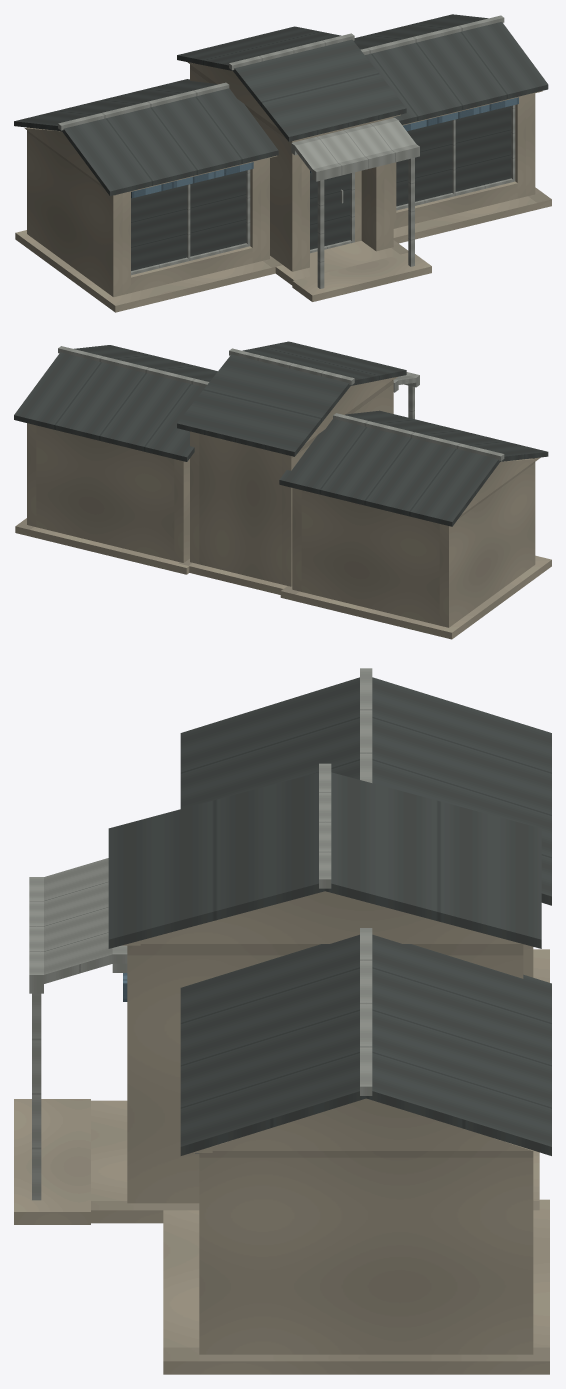
The picture shows the model from 3 angles, top to bottom: view 1: azimuth 30°, elevation 25°; view 2: azimuth 150°, elevation 25°; view 3: azimuth 270°, elevation 25°; orthographic projection. The views are drawn at different scales.
Parts seen in each view (by area): view 1: tirana; view 2: tirana; view 3: tirana.
Part boxes in pixels (x1,y1,x2,y2): tirana: (14,14,551,312); tirana: (14,341,551,639); tirana: (14,668,551,1374).
Size of the model in its own units: 8.6 by 3.33 by 4.68.
1 material, 1 textured.
